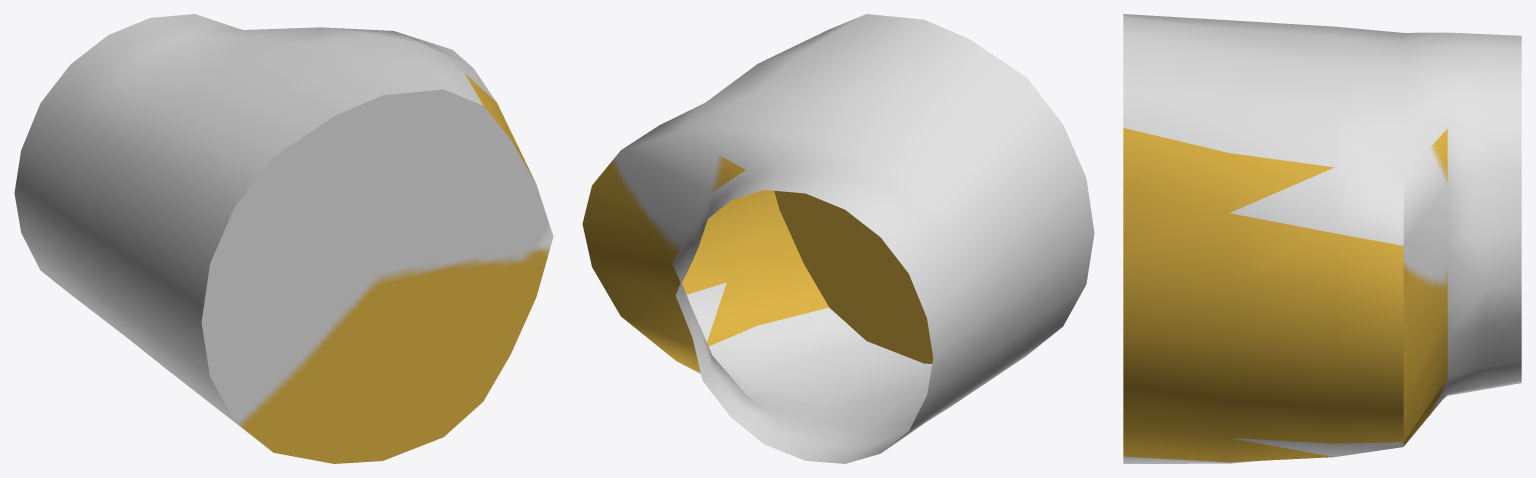
3 views of the same model, side by side, from view 1: azimuth 30°, elevation 25°; view 2: azimuth 150°, elevation 25°; view 3: azimuth 270°, elevation 25° (orthographic). The views are drawn at different scales.
Parts seen in each view (by area): view 1: link_base.3obj.002; view 2: link_base.3obj.002; view 3: link_base.3obj.002.
Part boxes in pixels (box(x1,y1,x2,y2)): link_base.3obj.002: box(14, 14, 553, 463); link_base.3obj.002: box(582, 14, 1094, 463); link_base.3obj.002: box(1123, 14, 1521, 463).
Size of the model in its own units: 0.1434 by 0.1176 by 0.1045.
1 material, 1 textured.
